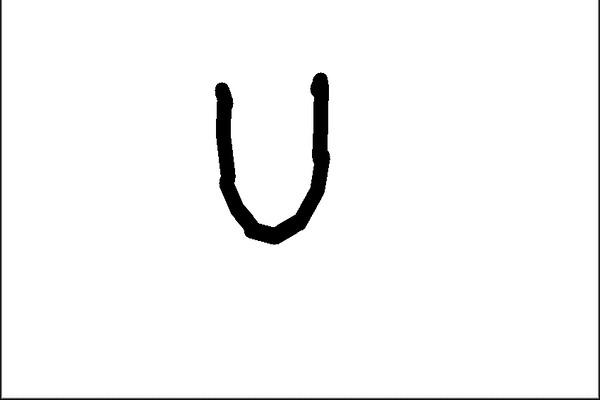U: (203, 72, 337, 248)
